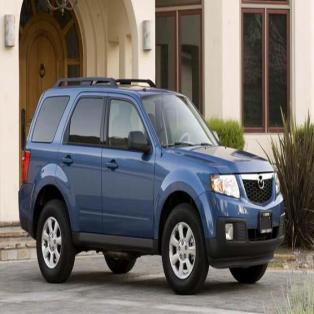Auto: (18, 78, 286, 293)
